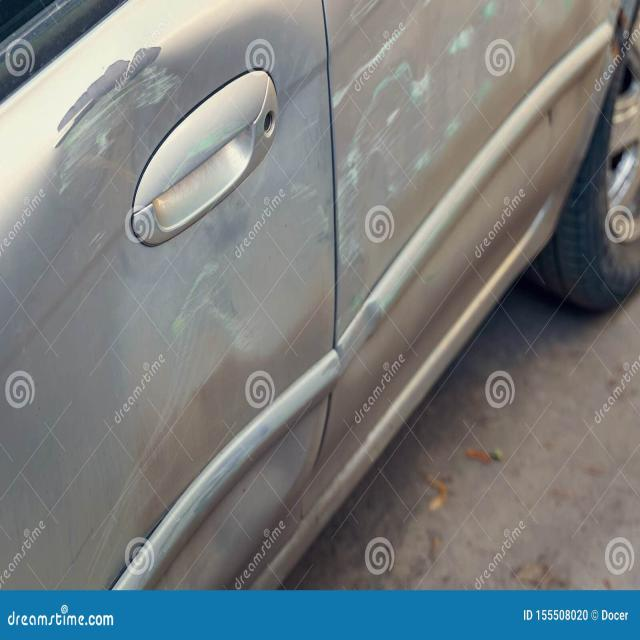dent: (44, 0, 330, 579)
scratch: (37, 0, 561, 593)
